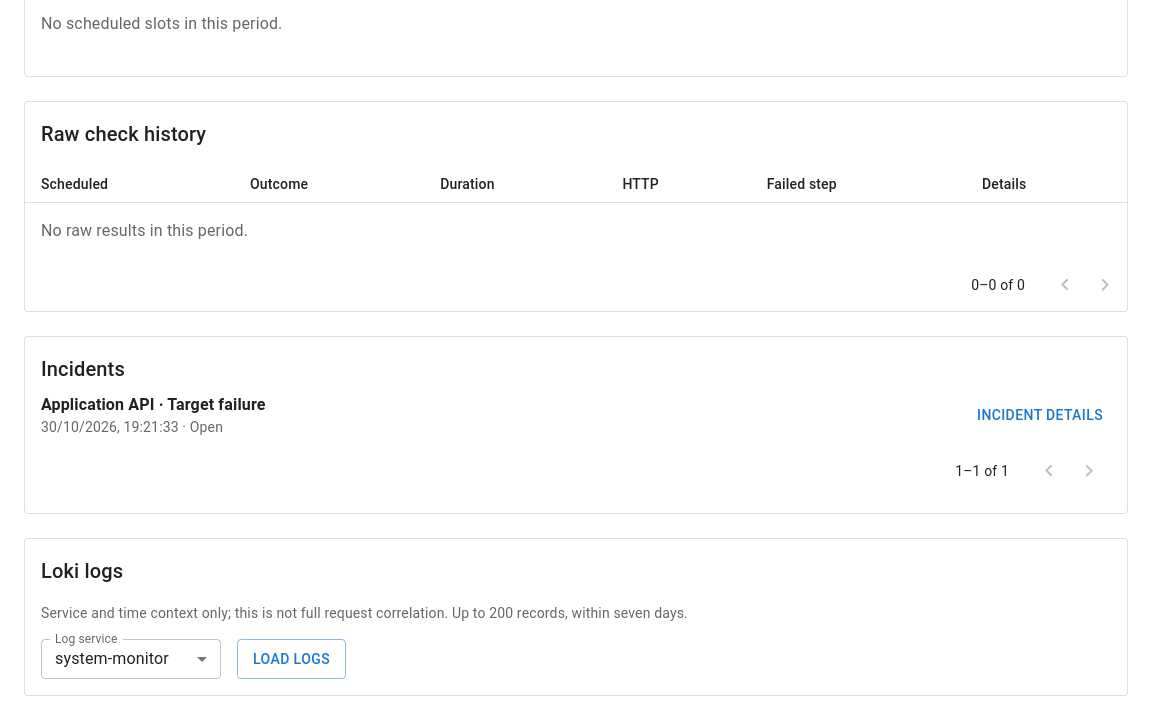
Test: opens incident details in a named dialog and closes it without changing the list
The image size is (1152, 720).
(page scrolled)
What coordinates should you click on to do the following:
click the button "Incident details"
I would click on:
 (1040, 415)
Its box is [969,393,1111,437].
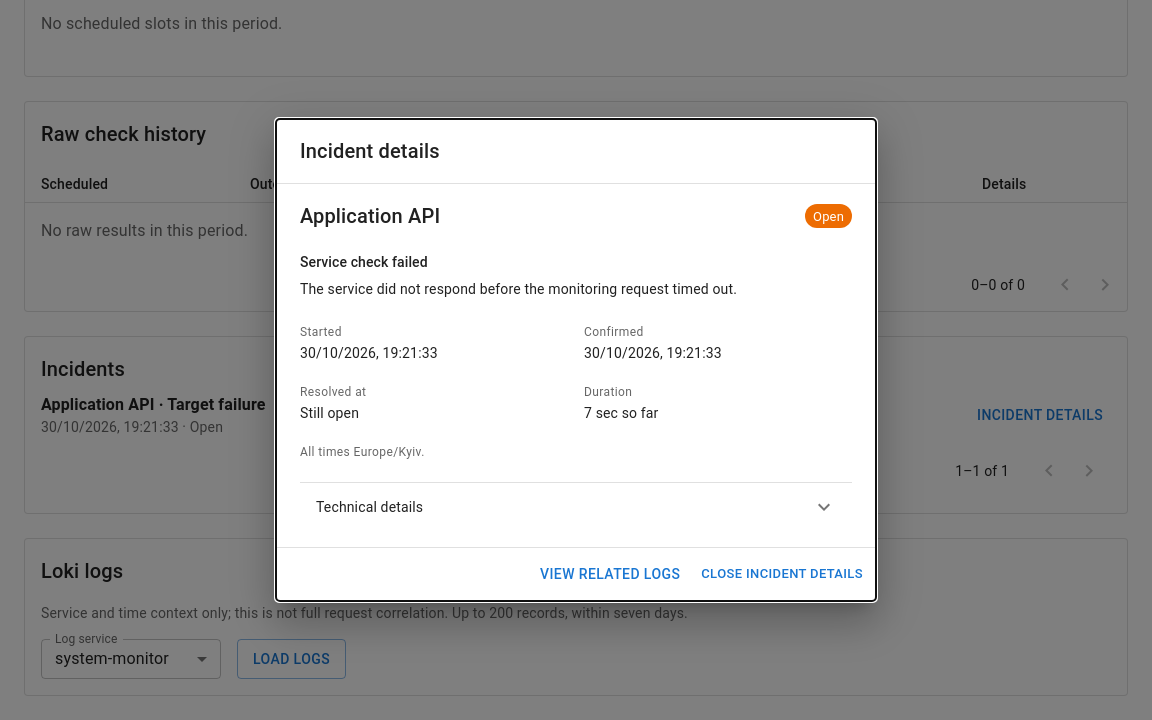
Check: the text "The service did not respond before the monitoring request timed out." is shown, box [300,281,737,297]
What coordinates should you click on to do the following:
click the button "Technical details"
I would click on:
 (370, 507)
Its box is [300,483,852,531].
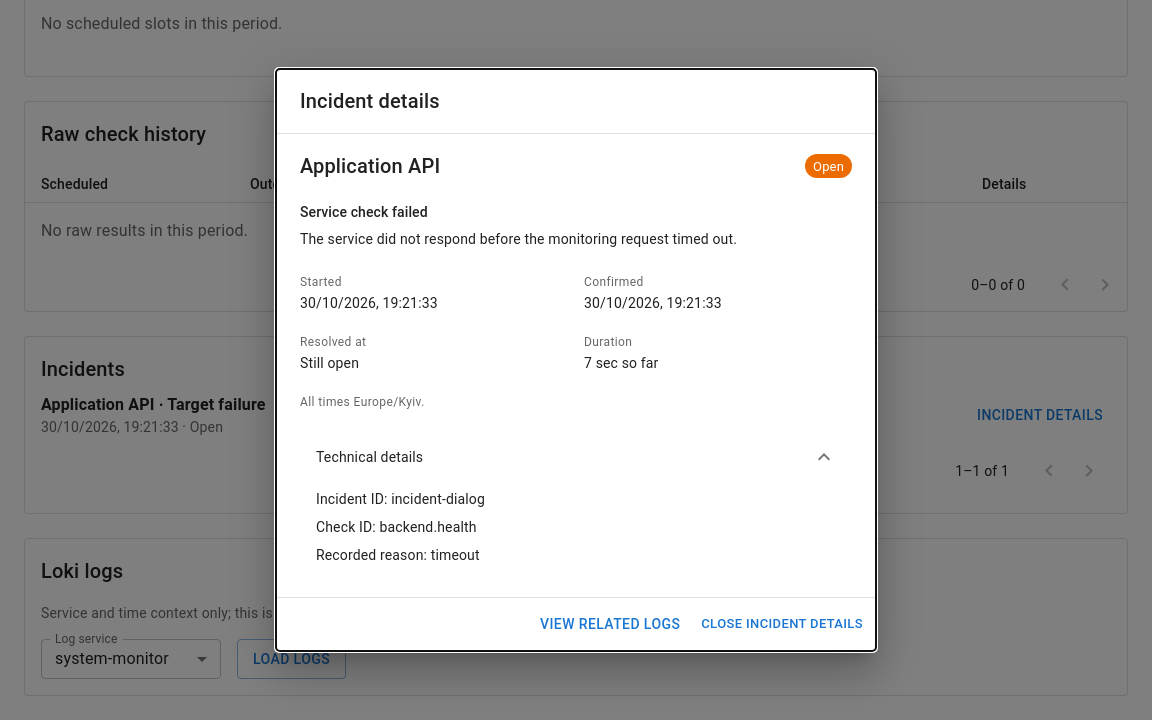
Check: the text "Incident ID: incident-dialog" is shown, box [316,491,485,507]
What coordinates should you click on to do the following:
click the button "Close incident details"
I would click on:
 (782, 624)
Its box is [696,609,868,640].
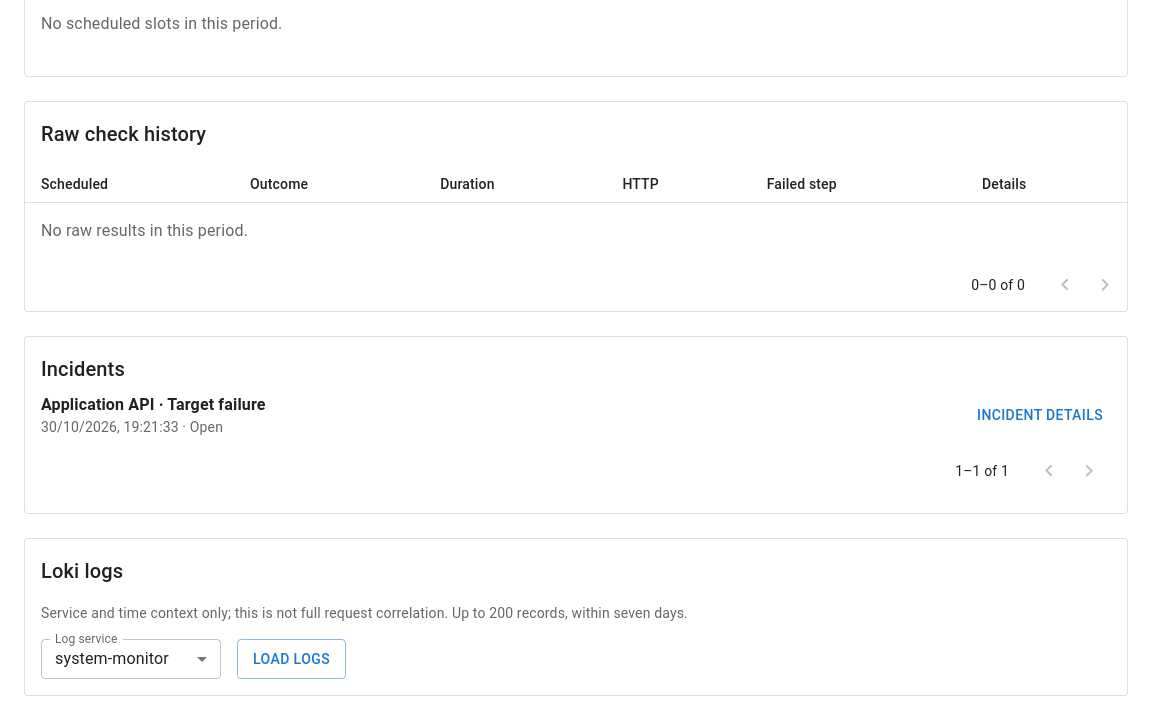
Check: the button "Incident details" is shown, box [969,393,1111,437]
Check: the dialog is gone
